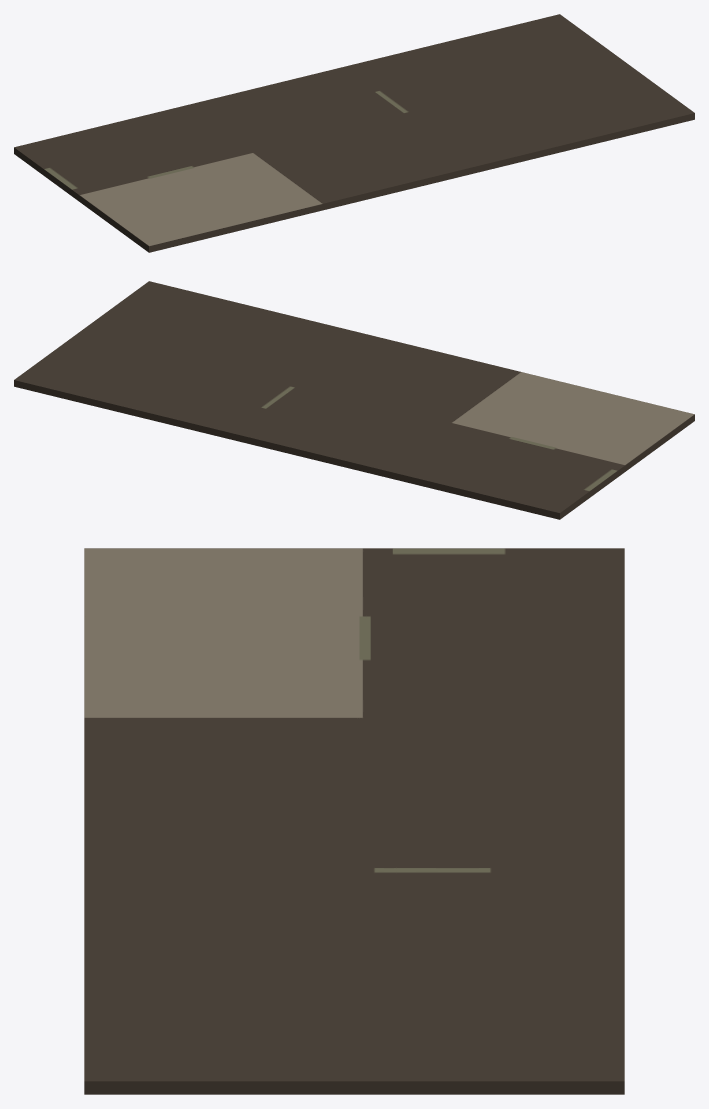
File: Floor.glb
3 views of the same model, one above another, from view 1: azimuth 30°, elevation 25°; view 2: azimuth 150°, elevation 25°; view 3: azimuth 270°, elevation 25° (orthographic). The views are drawn at different scales.
Parts seen in each view (by area): view 1: Plane.009; view 2: Plane.009; view 3: Plane.009.
Part boxes in pixels (x1,y1,x2,y2): Plane.009: [14, 14, 694, 252]; Plane.009: [14, 281, 694, 519]; Plane.009: [84, 548, 624, 1094].
Bounding box in the file's own units: 210 × 2.44 × 89.96.
1 material, 1 textured.
